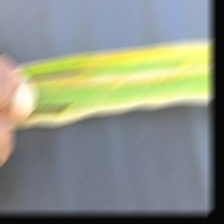Leaf_Blast: (19, 48, 205, 118)
